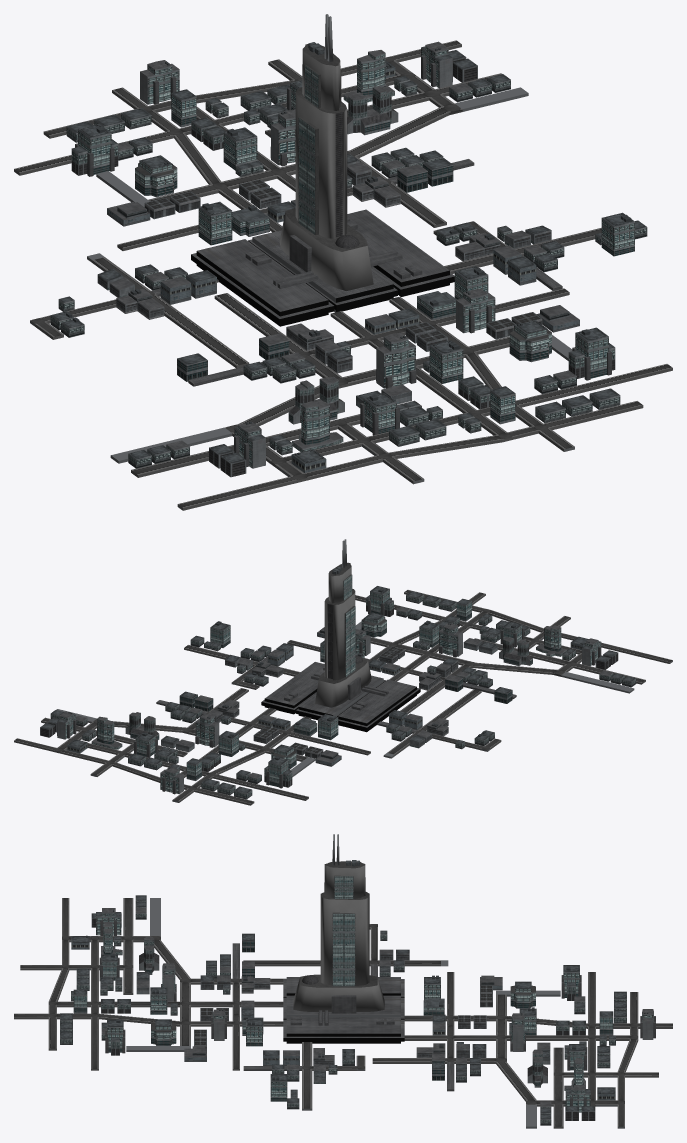
The model's file is Senate.fbx.
3 views of the same model, one above another, from view 1: azimuth 30°, elevation 25°; view 2: azimuth 150°, elevation 25°; view 3: azimuth 270°, elevation 25° (orthographic). The views are drawn at different scales.
Parts seen in each view (by area): view 1: Senate; view 2: Senate; view 3: Senate.
Boxes of the visible parts, x1=… form: Senate: x1=14, y1=14, x2=672, y2=510; Senate: x1=14, y1=539, x2=672, y2=805; Senate: x1=14, y1=834, x2=672, y2=1128.
Bounding box in the file's own units: 3602 × 1331 × 4385.
